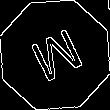M_SE: (23, 22, 87, 88)
